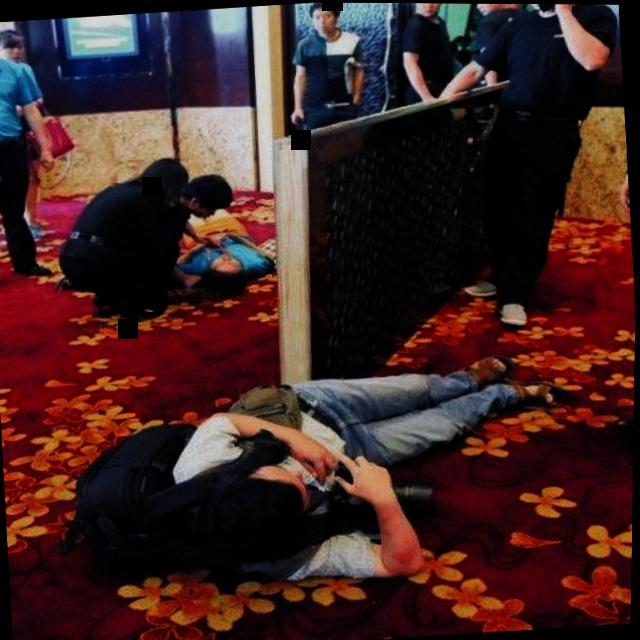Fall-Detected: (46, 331, 571, 605)
